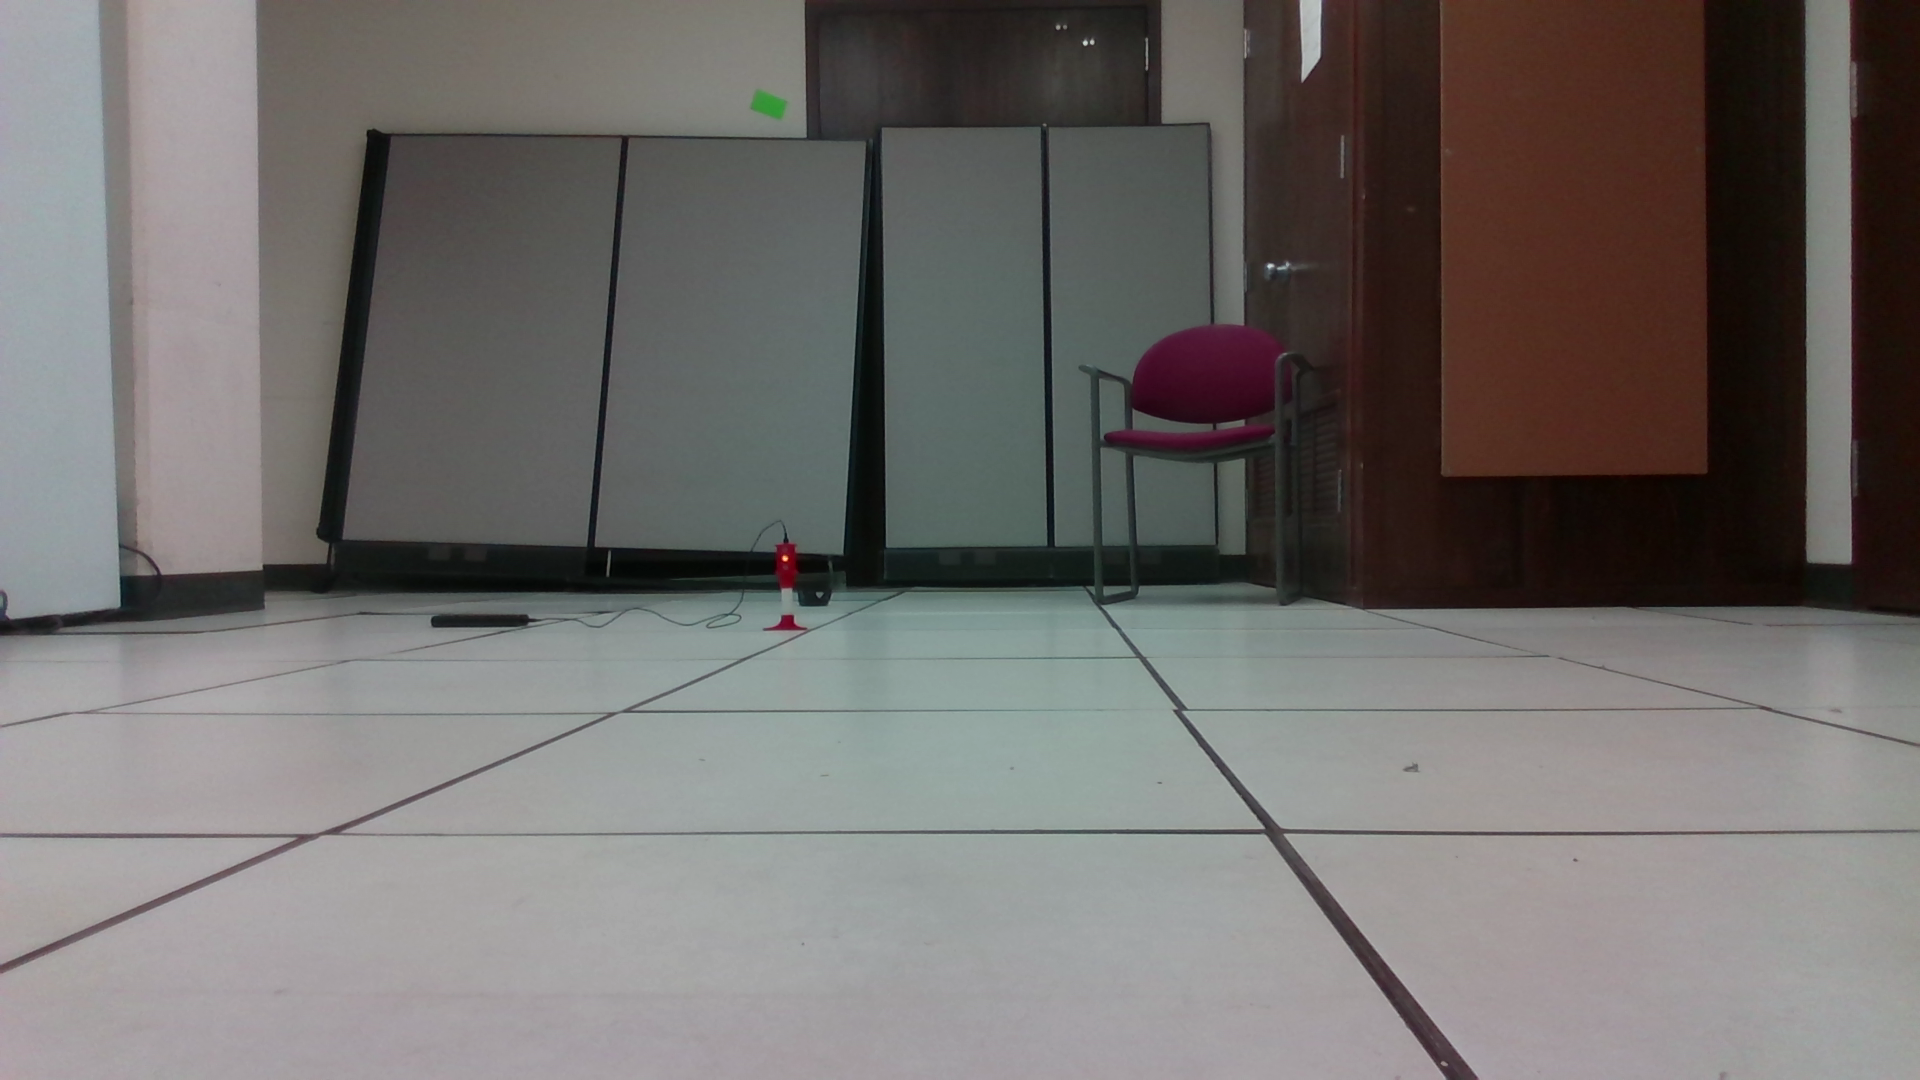stoplight: (771, 545, 798, 588)
